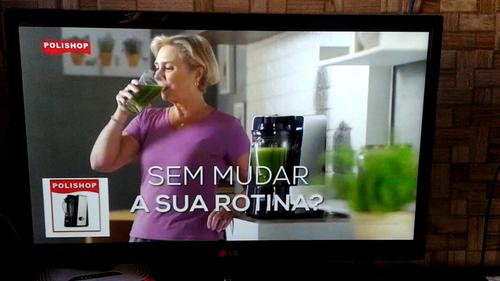poli: (41, 178, 110, 237)
